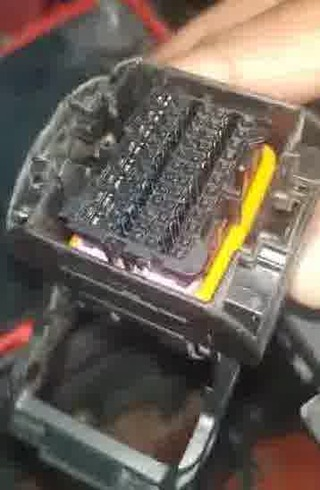connector: (4, 57, 320, 369)
